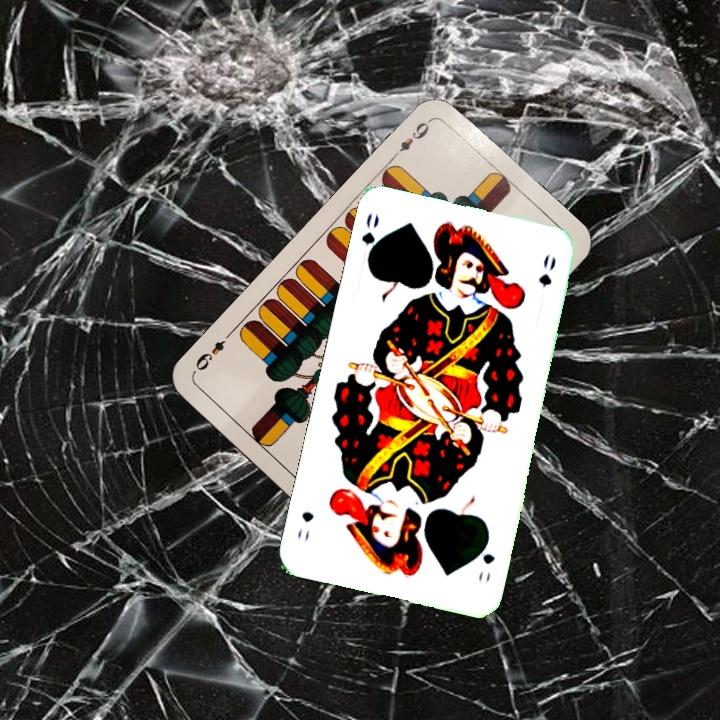E9: (388, 115, 434, 162)
GO: (357, 208, 385, 269), (474, 533, 498, 585)
